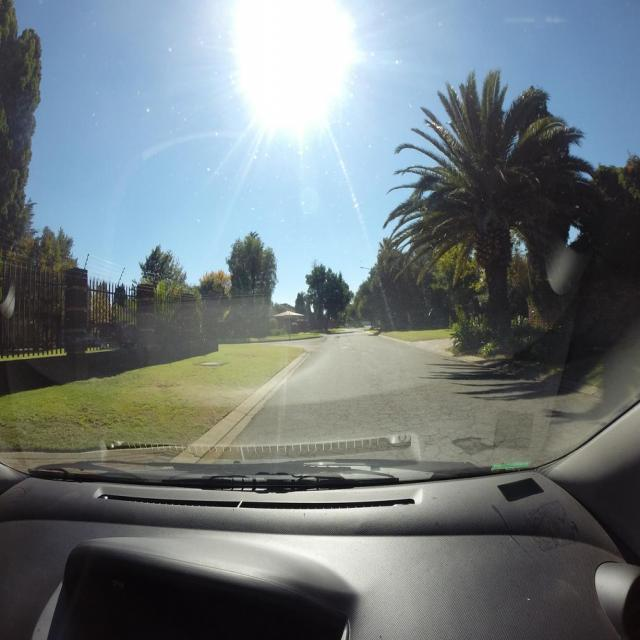Pothole: (450, 436, 496, 456), (341, 346, 348, 348), (350, 351, 357, 352), (362, 353, 368, 354), (369, 350, 373, 351)
